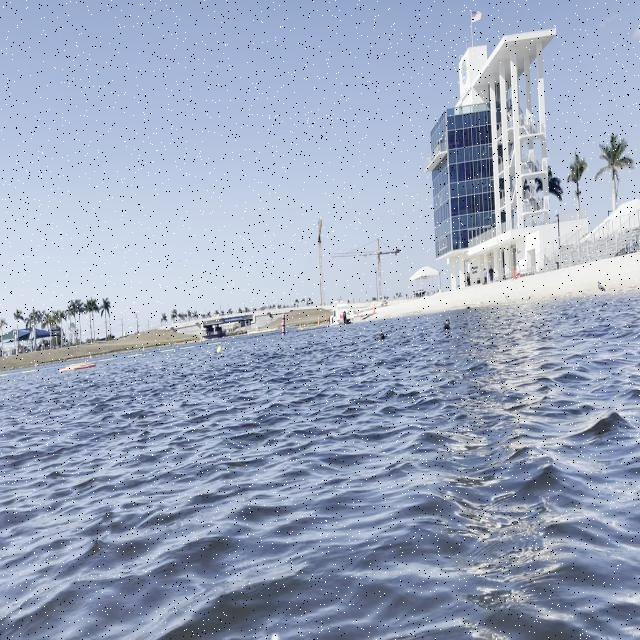buoy: (216, 343, 222, 352)
